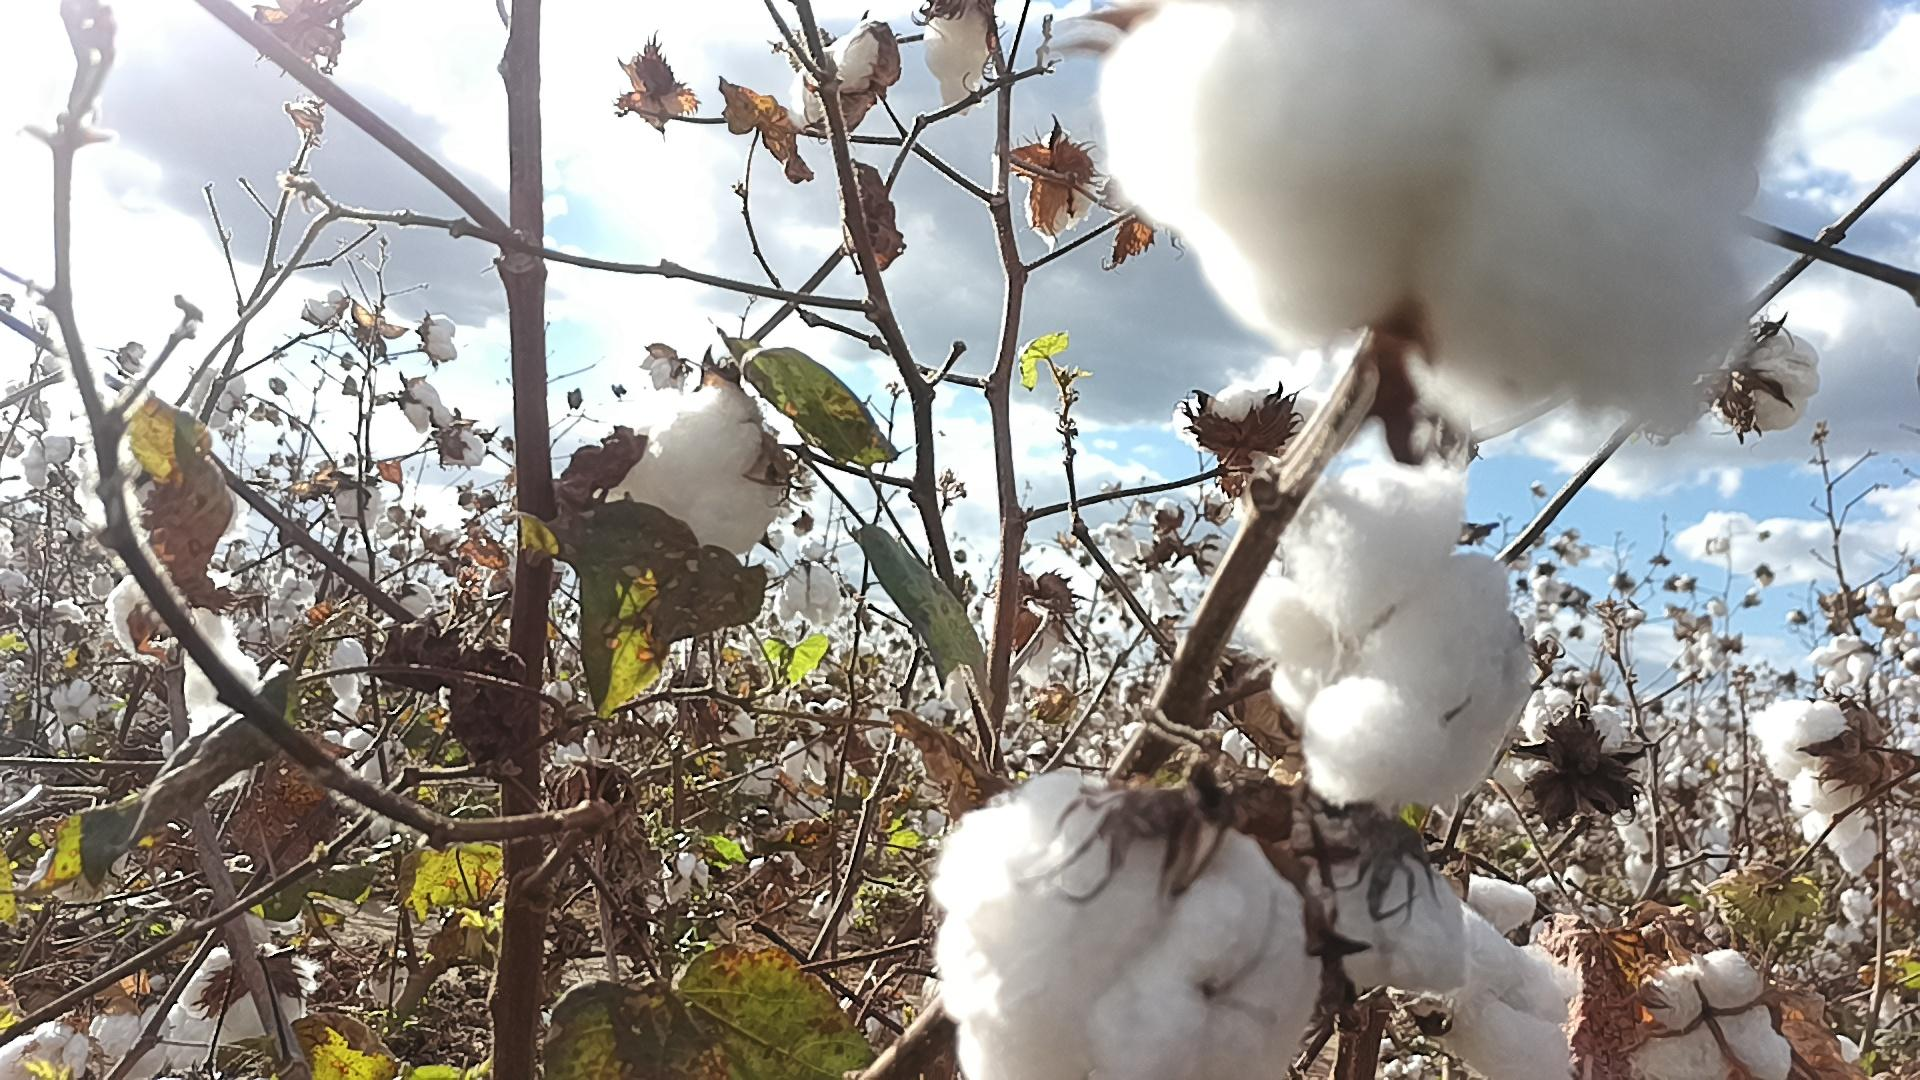cotton_ready: (1098, 0, 1866, 429), (934, 770, 1317, 1080), (1240, 458, 1493, 798), (597, 389, 789, 560), (1433, 878, 1573, 1080), (1302, 851, 1468, 993), (1747, 703, 1880, 878), (108, 575, 255, 733), (1630, 951, 1796, 1080), (166, 947, 316, 1073), (1519, 687, 1630, 800), (1718, 322, 1824, 429), (1168, 392, 1321, 455), (800, 28, 882, 136), (984, 587, 1069, 686), (1033, 137, 1104, 251), (923, 0, 990, 116), (87, 1010, 175, 1080), (0, 1025, 95, 1080)
